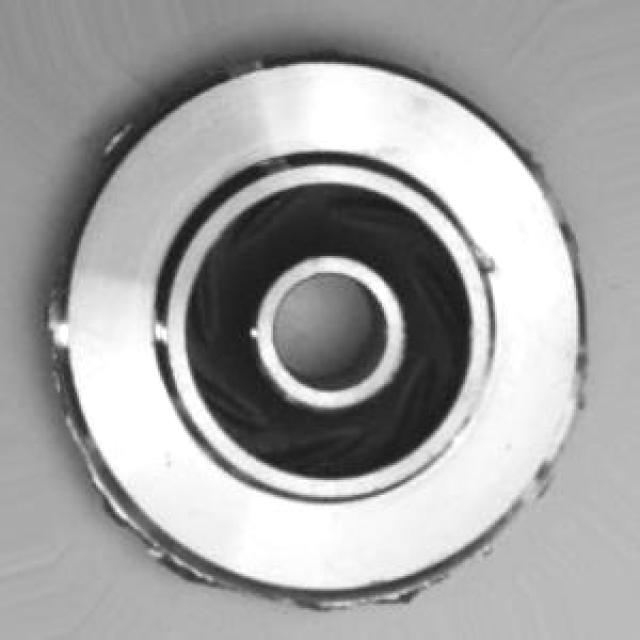Defect: (470, 237, 506, 293)
